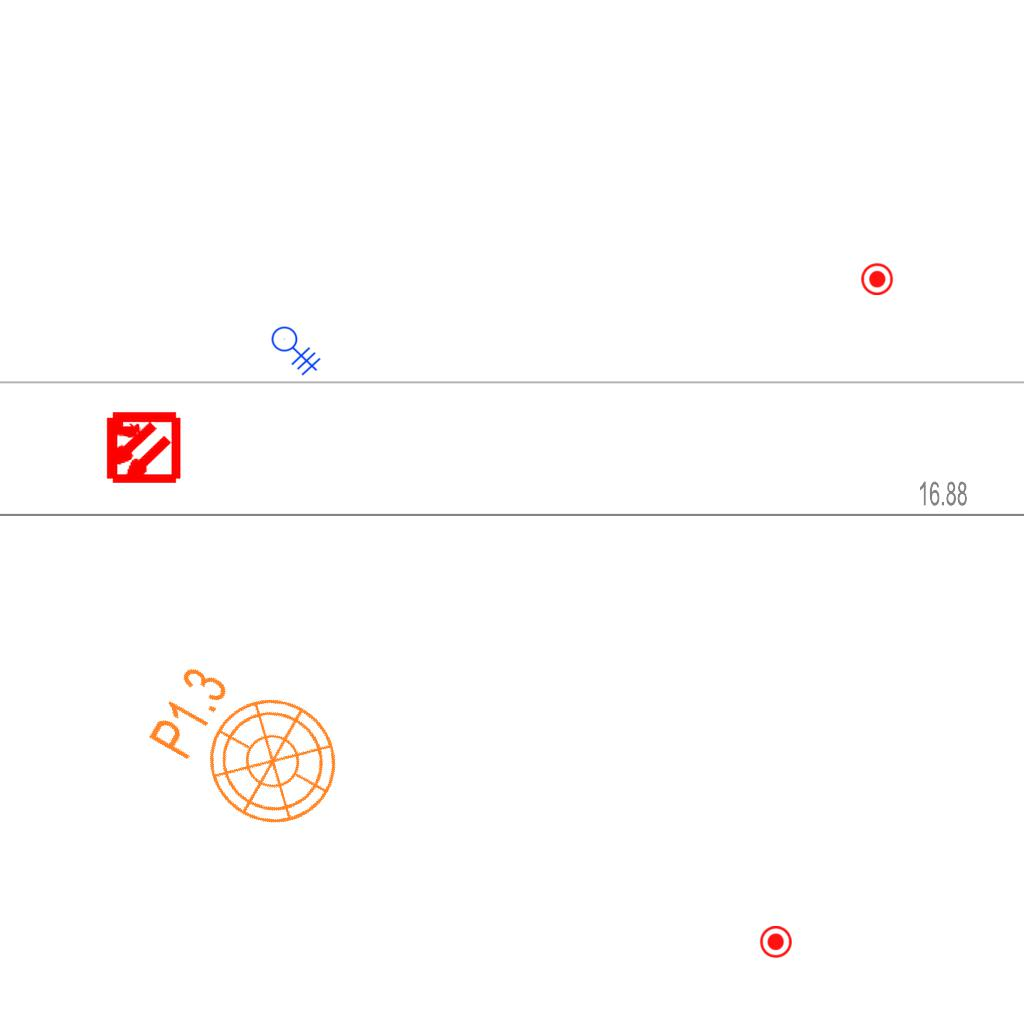Aufbaurundleuchte_LED_Treppenhaus: (120, 627, 369, 850)
Elektroanschluss_allgemein_400V_Geraeteanschlussdose_400V: (271, 318, 327, 376)
OT_Multisensormelder_(Kombination_RMO_WMD): (85, 391, 198, 504)
Taster: (759, 926, 792, 959), (861, 262, 894, 295)
